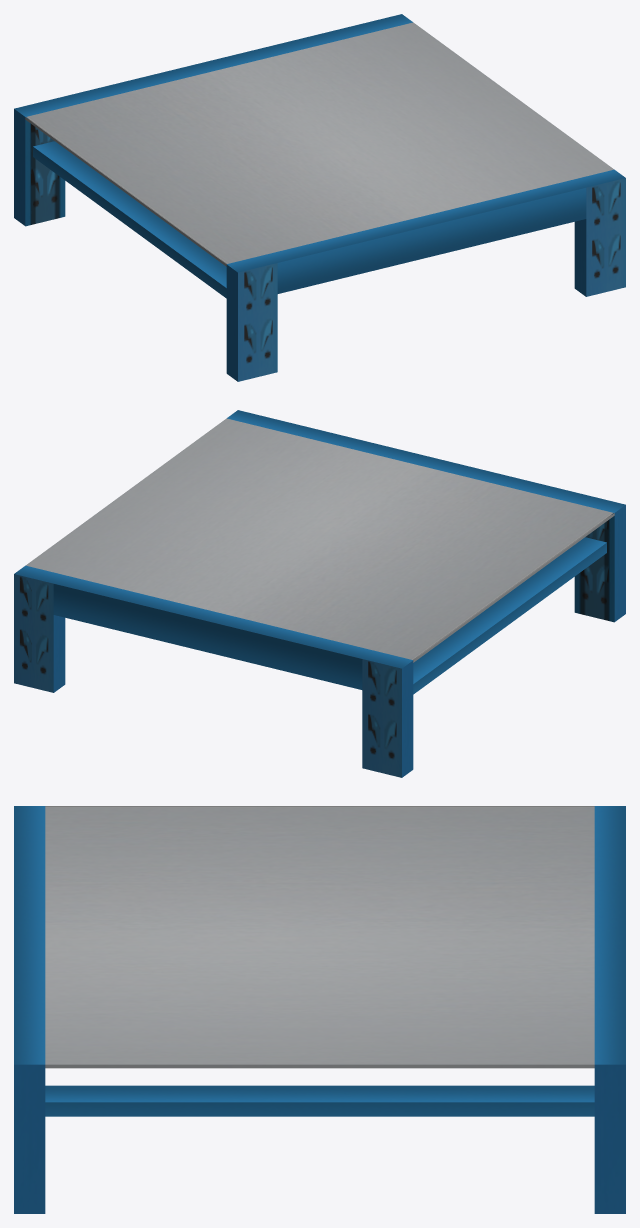
The model's file is LANSE_YI.obj.
The picture shows the model from 3 angles, top to bottom: view 1: azimuth 30°, elevation 25°; view 2: azimuth 150°, elevation 25°; view 3: azimuth 270°, elevation 25°; orthographic projection. The views are drawn at different scales.
Visible parts, largest first — view 1: Mesh1; view 2: Mesh1; view 3: Mesh1.
Part boxes in pixels (bbox=[...]): Mesh1: bbox=[14, 14, 625, 381]; Mesh1: bbox=[14, 410, 625, 777]; Mesh1: bbox=[14, 806, 625, 1213].
Size of the model in its own units: 780 by 210 by 780.
Materials: 1 (1 with a texture image).
